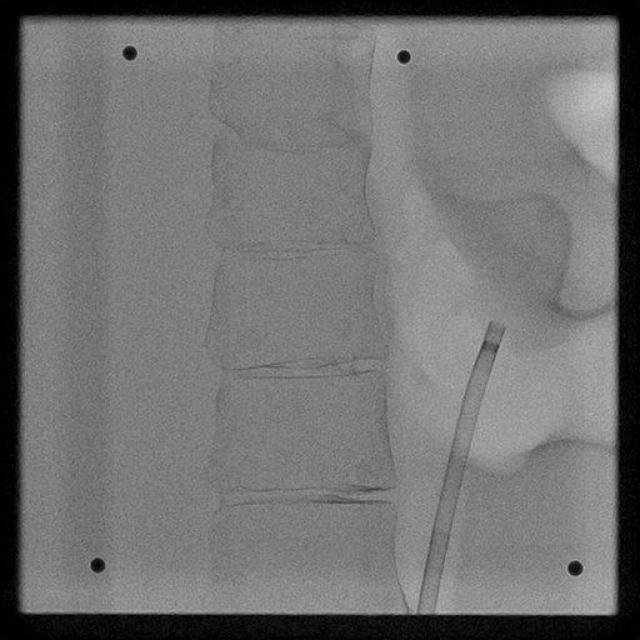bend: (433, 522, 452, 533)
entry: (418, 608, 438, 614)
marker: (480, 339, 500, 352)
tip: (488, 320, 508, 331)
